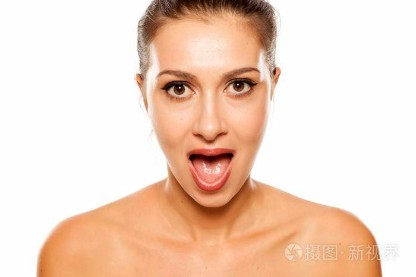张嘴: (182, 140, 239, 194)
